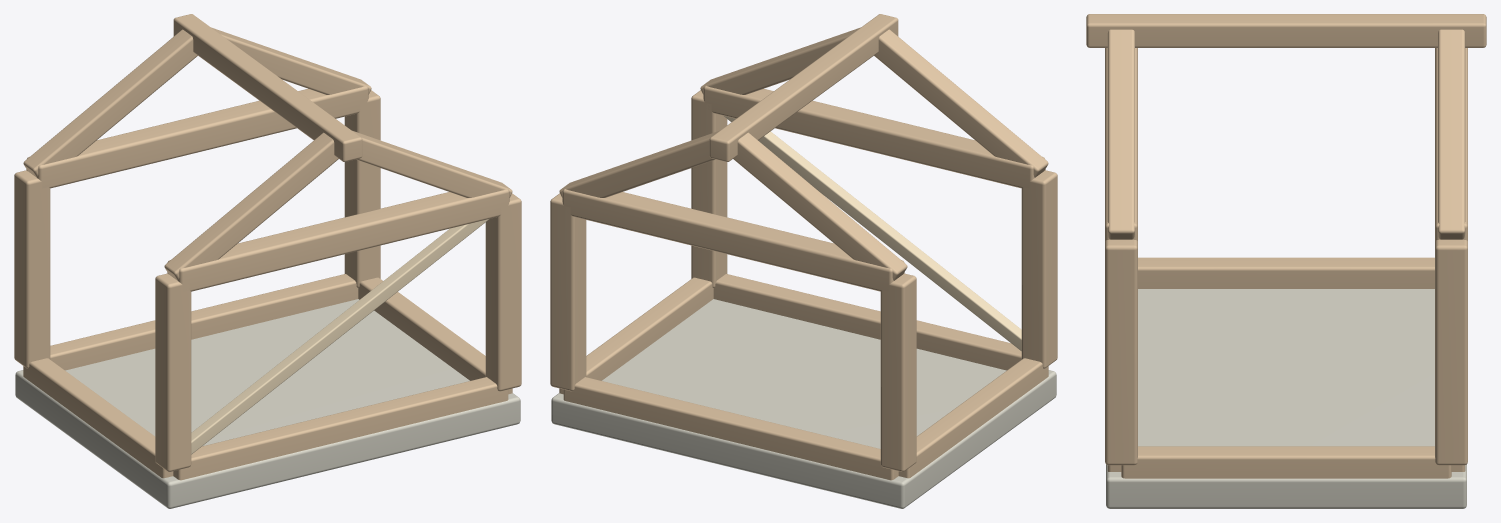
The model's file is goat-shelter-frame.glb.
3 views of the same model, side by side, from view 1: azimuth 30°, elevation 25°; view 2: azimuth 150°, elevation 25°; view 3: azimuth 270°, elevation 25° (orthographic). The views are drawn at different scales.
Parts seen in each view (by area): view 1: Rounded stone footing.021, Eave beam.024, Eave beam.025, Sill beam.084, Sill beam.085, Corner post.060, Corner post.061, Corner post.062, Ridge beam.012, Temporary brace.004, Gable rafter.050, Gable rafter.048 (+5 smaller); view 2: Rounded stone footing.021, Eave beam.025, Eave beam.024, Sill beam.085, Sill beam.084, Corner post.061, Corner post.060, Corner post.063, Ridge beam.012, Gable rafter.048, Gable rafter.050, Temporary brace.004 (+5 smaller); view 3: Rounded stone footing.021, Ridge beam.012, Sill beam.087, Sill beam.086, Corner post.062, Corner post.063, Gable rafter.049, Gable rafter.051, Eave beam.024, Eave beam.025.
Part boxes in pixels (x1,y1,x2,y2): Rounded stone footing.021: (15,299,520,508); Eave beam.024: (167,189,509,291); Eave beam.025: (26,85,368,188); Sill beam.084: (173,377,508,480); Sill beam.085: (50,274,358,370); Corner post.060: (155,273,191,471); Corner post.061: (14,170,50,368); Corner post.062: (485,193,521,391); Ridge beam.012: (173,14,362,161); Temporary brace.004: (191,219,489,454); Gable rafter.050: (23,29,197,177); Gable rafter.048: (164,132,338,280); Rounded stone footing.021: (551,299,1056,508); Eave beam.025: (562,189,904,291); Eave beam.024: (703,85,1045,188); Sill beam.085: (563,377,898,480); Sill beam.084: (713,274,1021,370); Corner post.061: (880,273,916,471); Corner post.060: (1021,170,1057,368); Corner post.063: (550,193,586,391); Ridge beam.012: (709,14,898,161); Gable rafter.048: (874,29,1048,177); Gable rafter.050: (733,132,907,280); Temporary brace.004: (723,115,1021,351); Rounded stone footing.021: (1106,289,1466,508); Ridge beam.012: (1086,14,1486,47); Sill beam.087: (1121,446,1451,478); Sill beam.086: (1138,257,1434,288); Corner post.062: (1105,239,1137,465); Corner post.063: (1435,239,1467,465); Gable rafter.049: (1107,29,1134,239); Gable rafter.051: (1438,29,1465,239); Eave beam.024: (1105,48,1137,241); Eave beam.025: (1435,48,1467,241).
Size of the model in its own units: 2.47 by 2.22 by 2.06.
